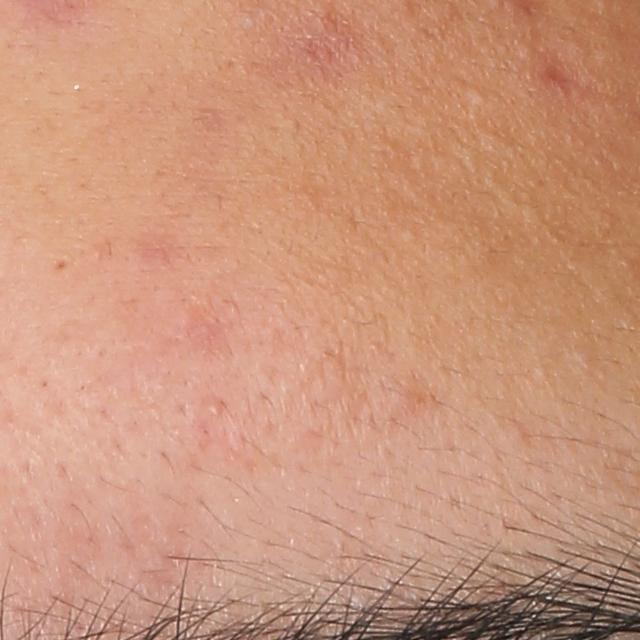comedo: (463, 82, 485, 107), (208, 398, 224, 415)
